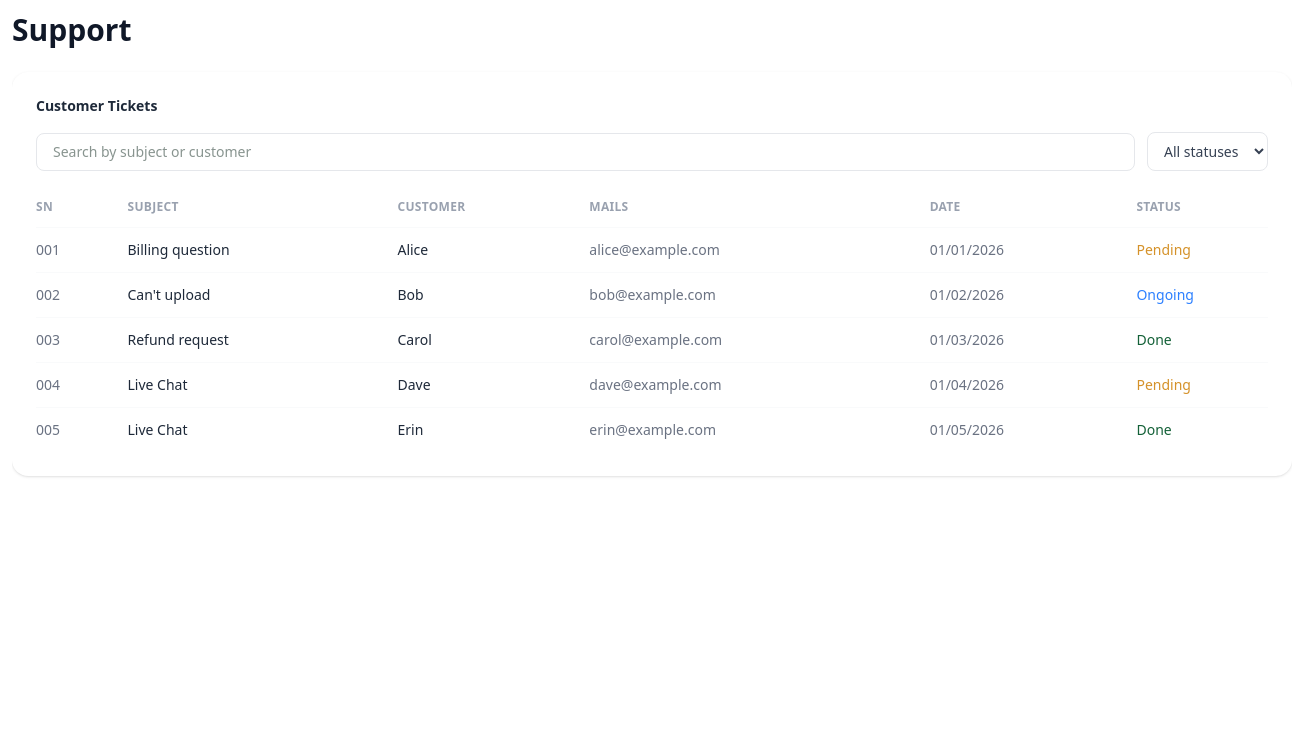
Test: AdminSupportPage › hides the reply box for a Live Chat ticket when canWrite is false
Click the text "Dave": (414, 384) [398,362,589,408]
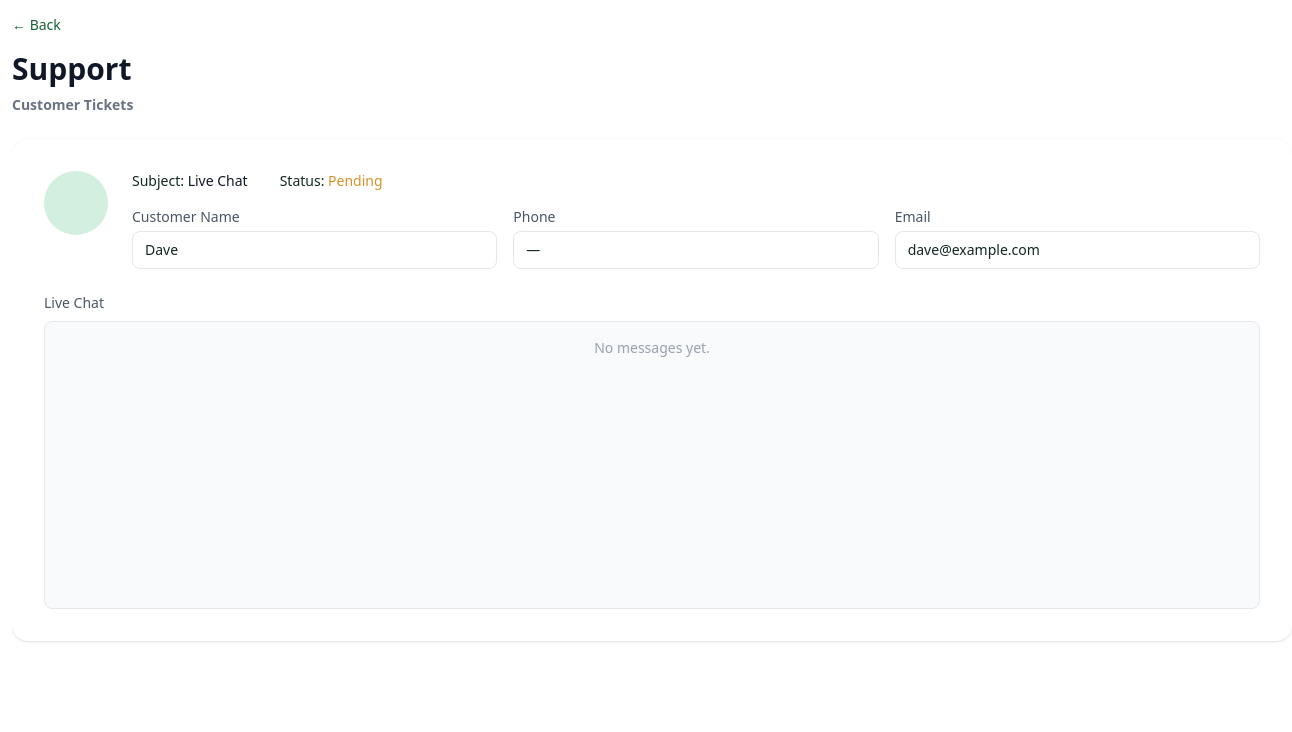
Expected: the text "No messages yet." is shown, [594,338,710,357]
